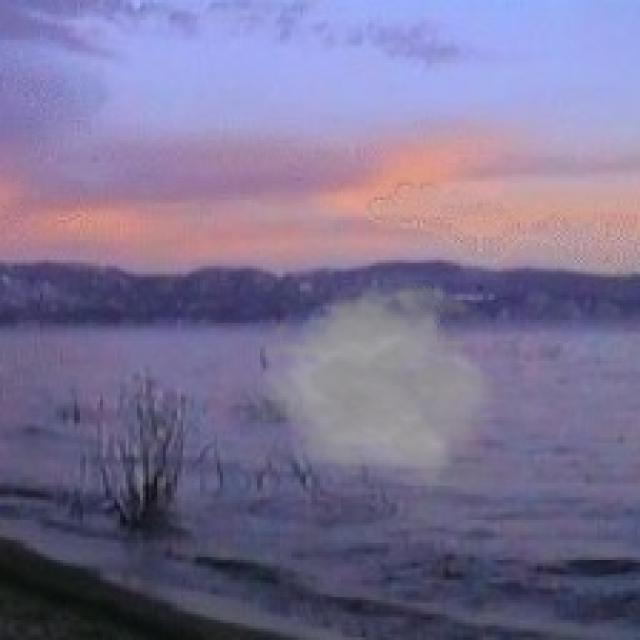Smoke: (248, 266, 506, 486)
